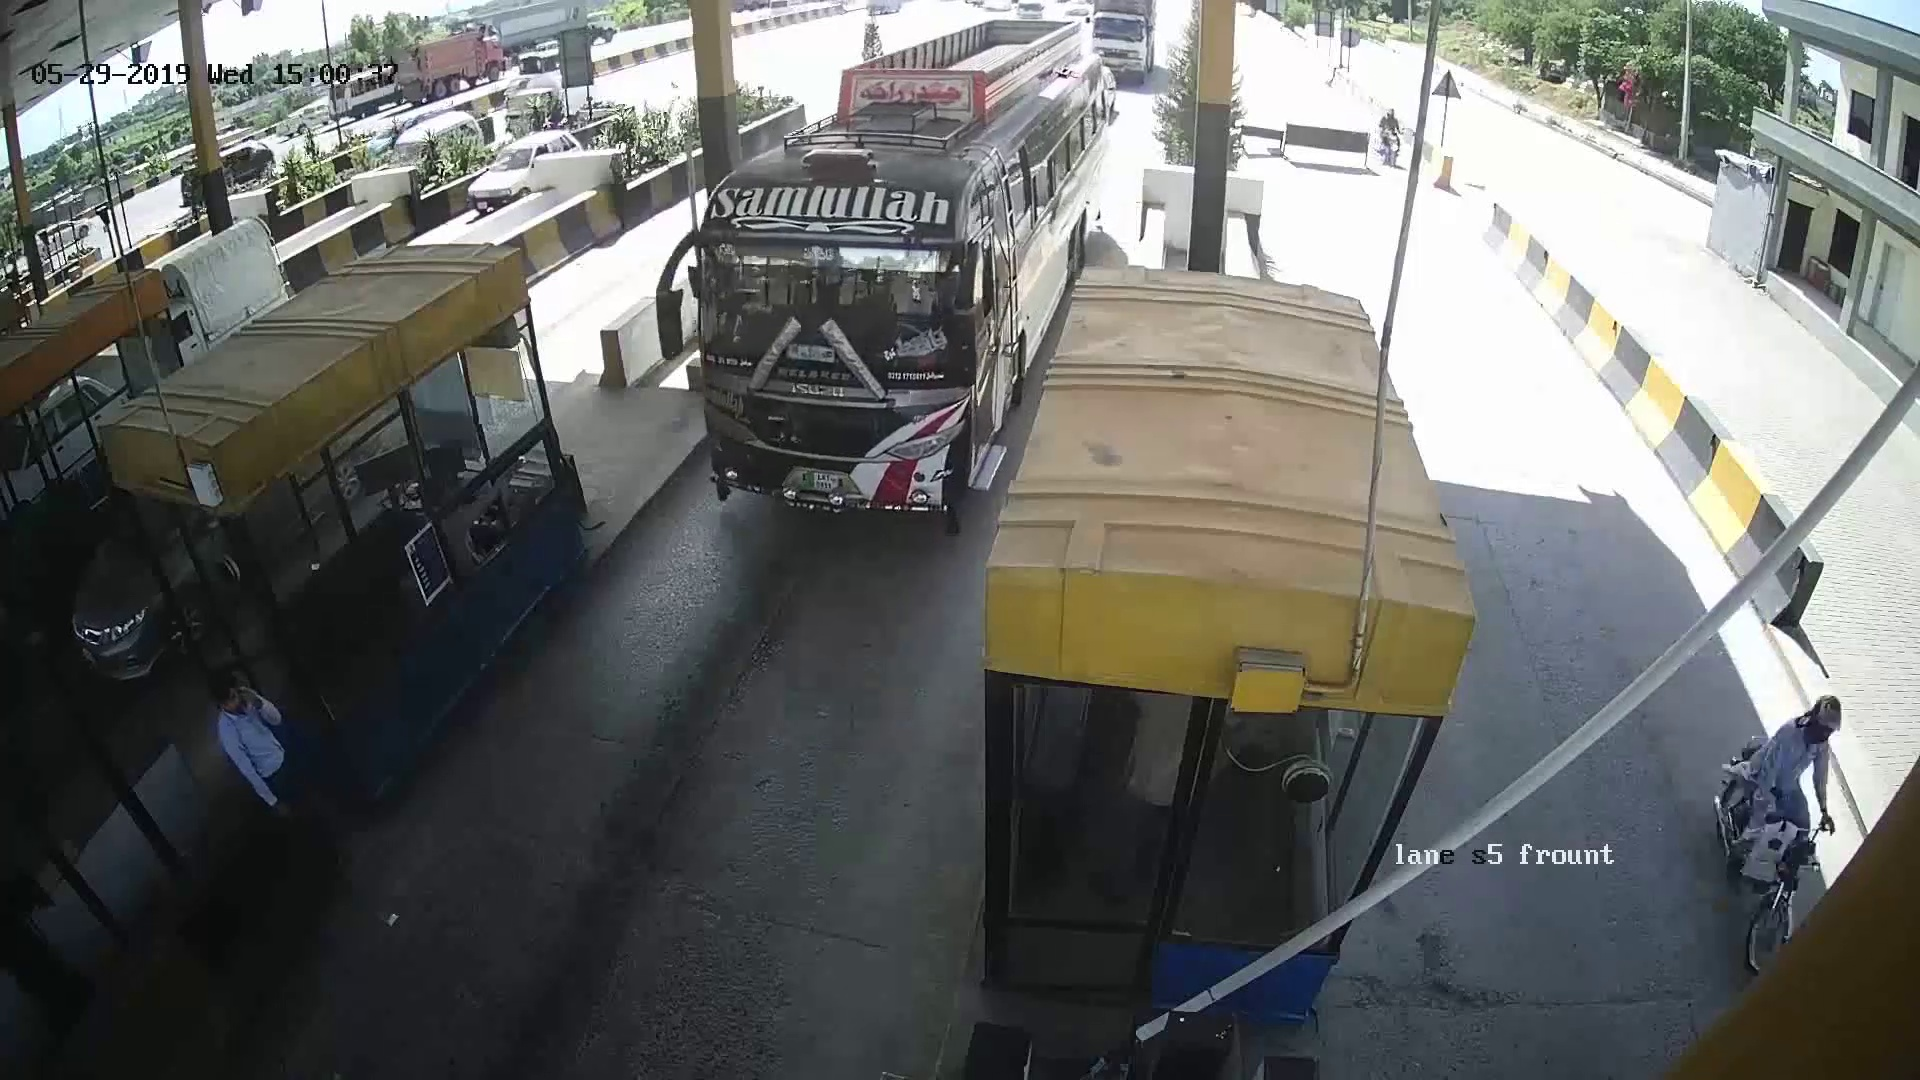bus: (700, 32, 1038, 526)
